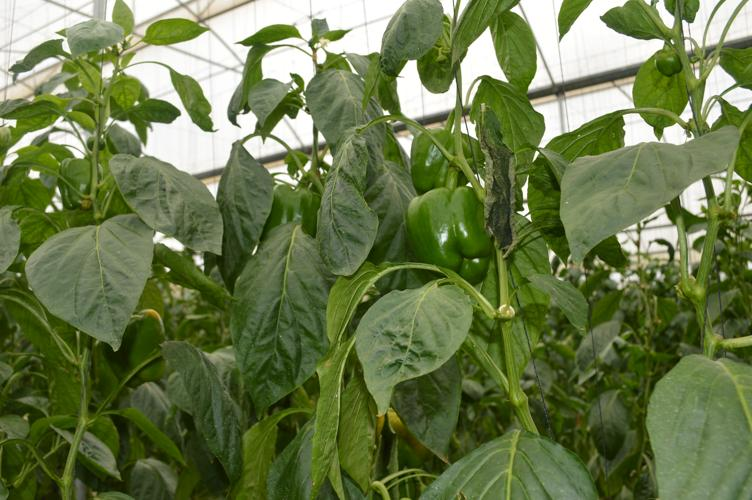BellPepper: (398, 180, 495, 288), (396, 112, 482, 195), (95, 304, 182, 384), (259, 176, 337, 253)
